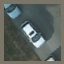car: (19, 18, 46, 49)
